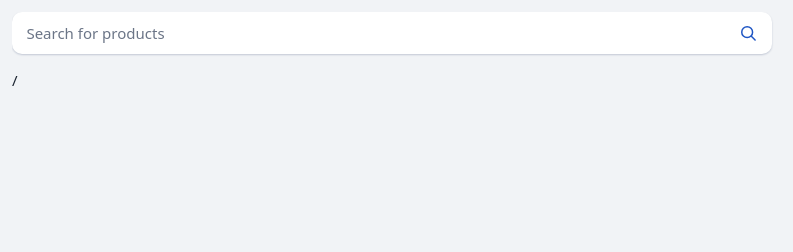
Test: SearchBox suggestions › closes the list with Escape
The image size is (793, 252).
Type "phone" into the dropdown named "Search products".
click(368, 33); type("phone")  # box [12,12,724,54]
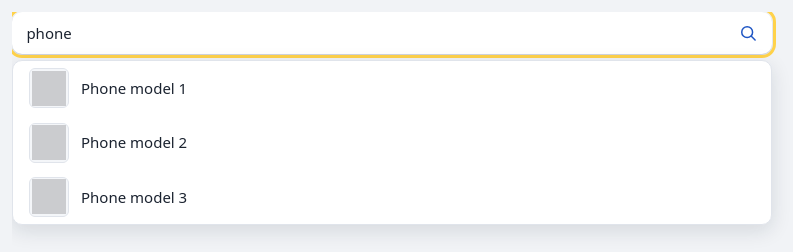
Expected: the list is shown, [29,68,187,217]
Expected: the dropdown named "Search products" is expanded, [12,12,724,54]
Press Escape
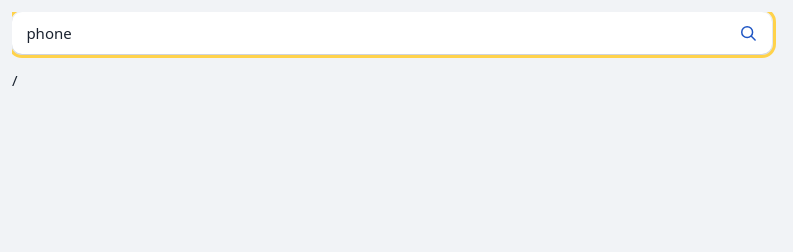
Expected: the list is gone
